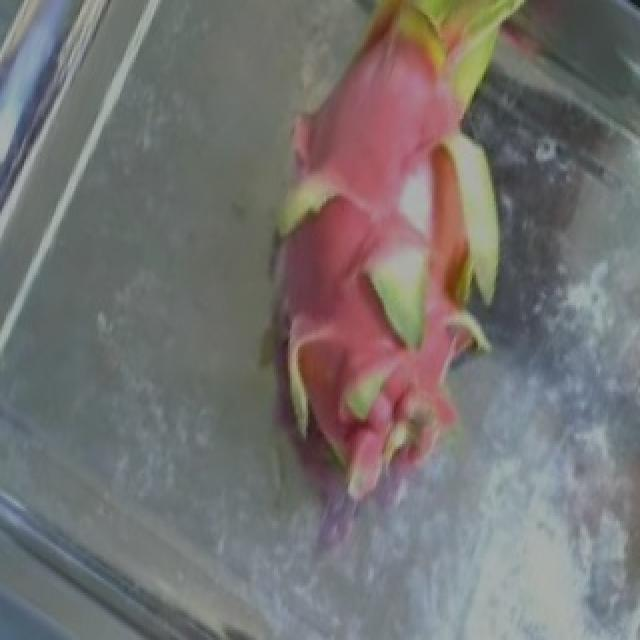fruit: (204, 0, 632, 397)
